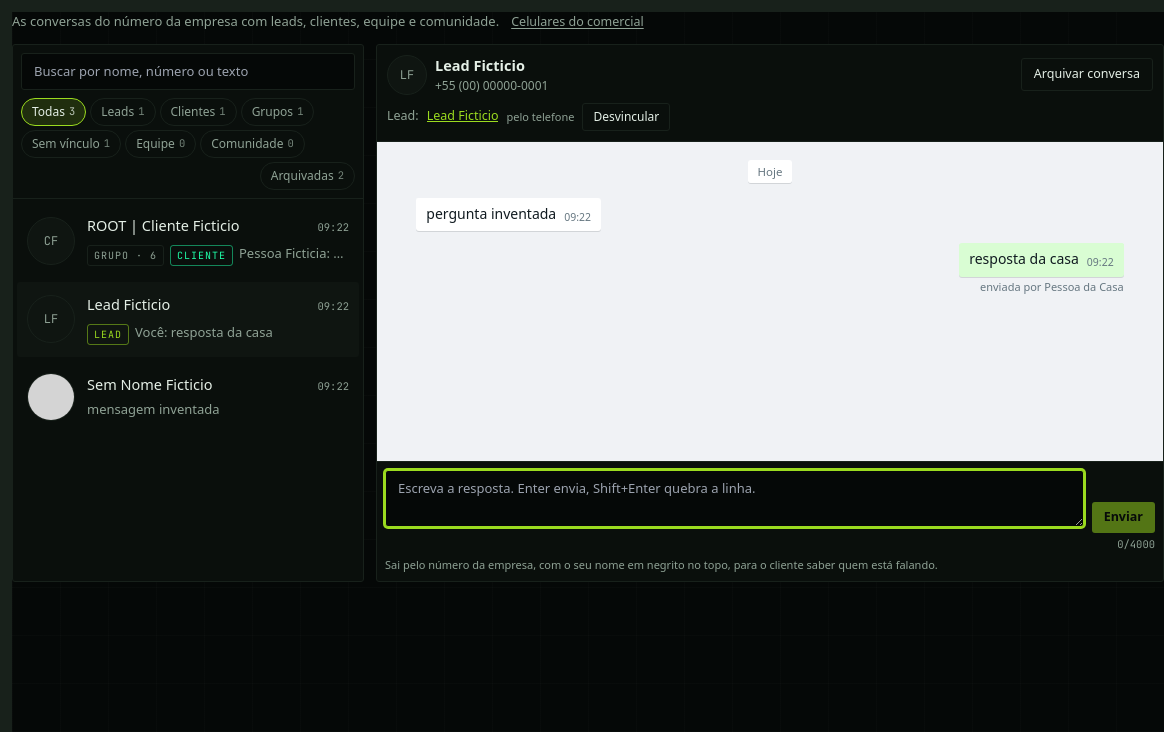
caixa de WhatsApp: abrir, ler, responder, arquivar › arquivar e voltar para a caixa; arquivada não recebe resposta
This screenshot has width=1164, height=732.
Click the button with test id "caixa-arquivar" at (1087, 75), box [1021,58,1153,91]
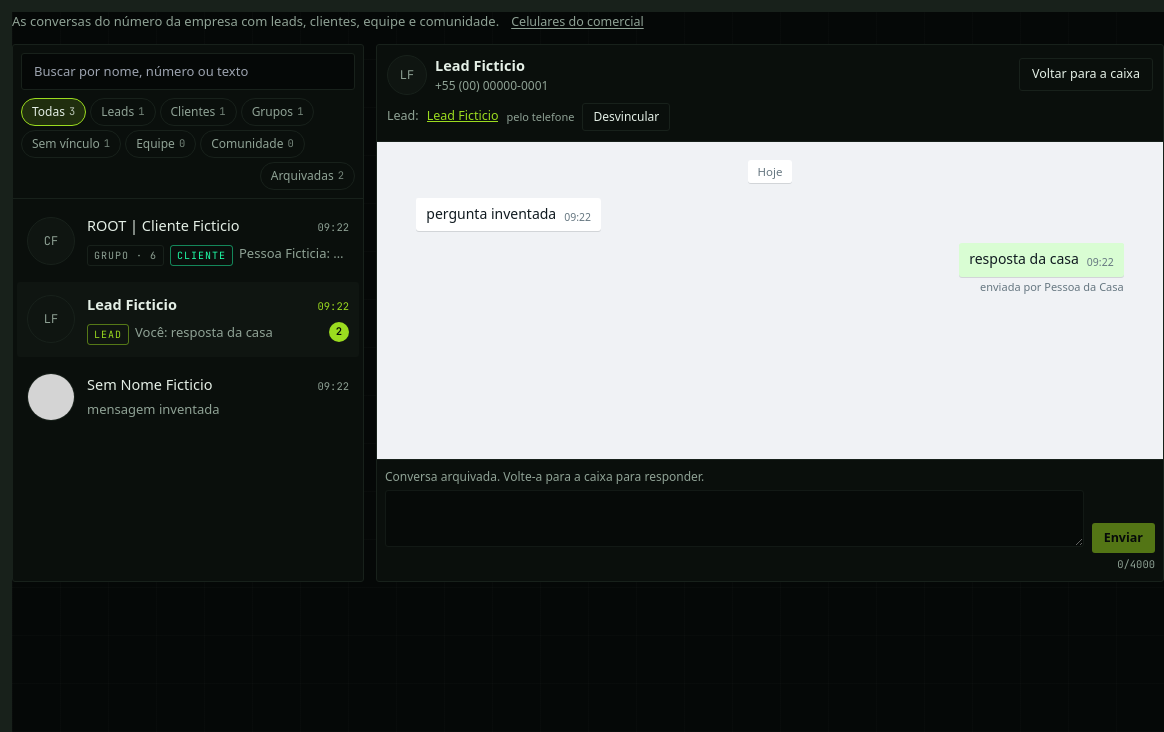
Expected: the button with test id "caixa-arquivar" reads "Voltar para a caixa"
Expected: the text box with test id "caixa-resposta" is disabled, [385,490,1084,547]
Expected: the text with test id "caixa-sem-resposta" shows "arquivada", [385,468,704,485]
Click the button with test id "caixa-arquivar" at (1086, 75), box [1019,58,1153,91]
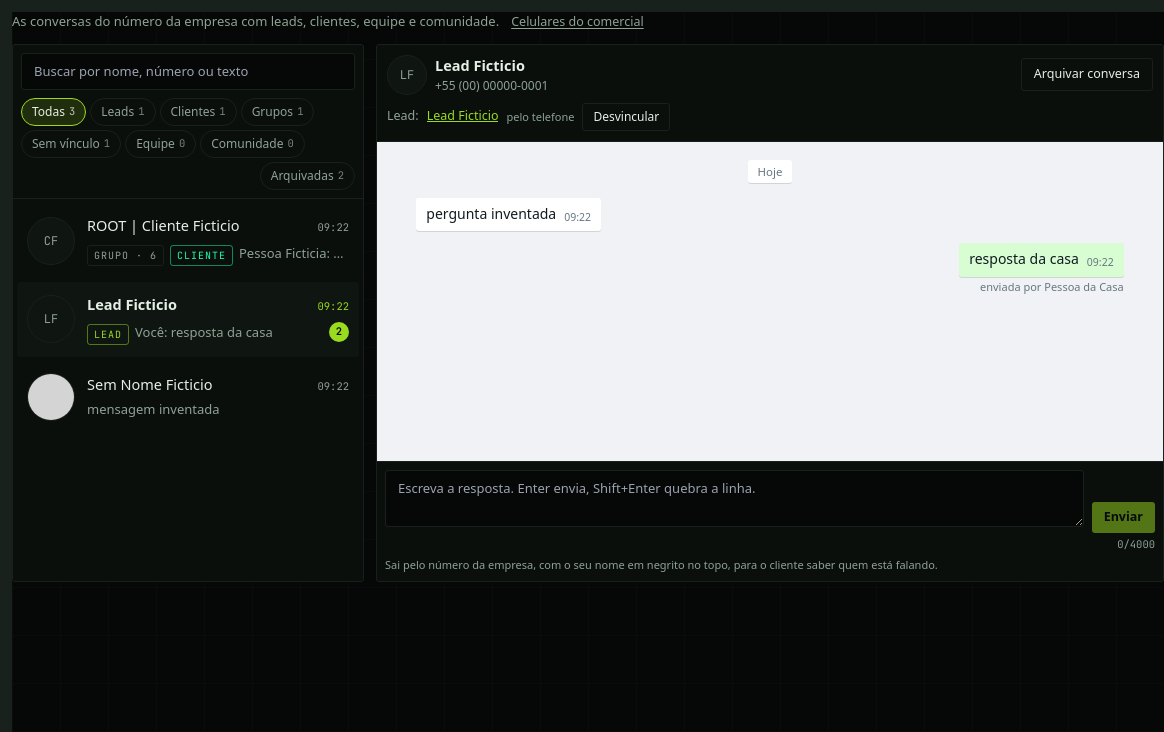
Expected: the button with test id "caixa-arquivar" reads "Arquivar conversa", [1021,58,1153,91]
Expected: the text box with test id "caixa-resposta" is enabled, [385,470,1084,527]
